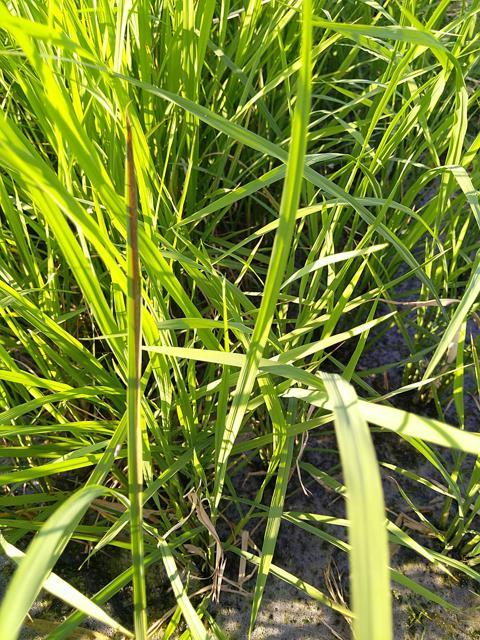Leaf Streak: (125, 109, 141, 429)
